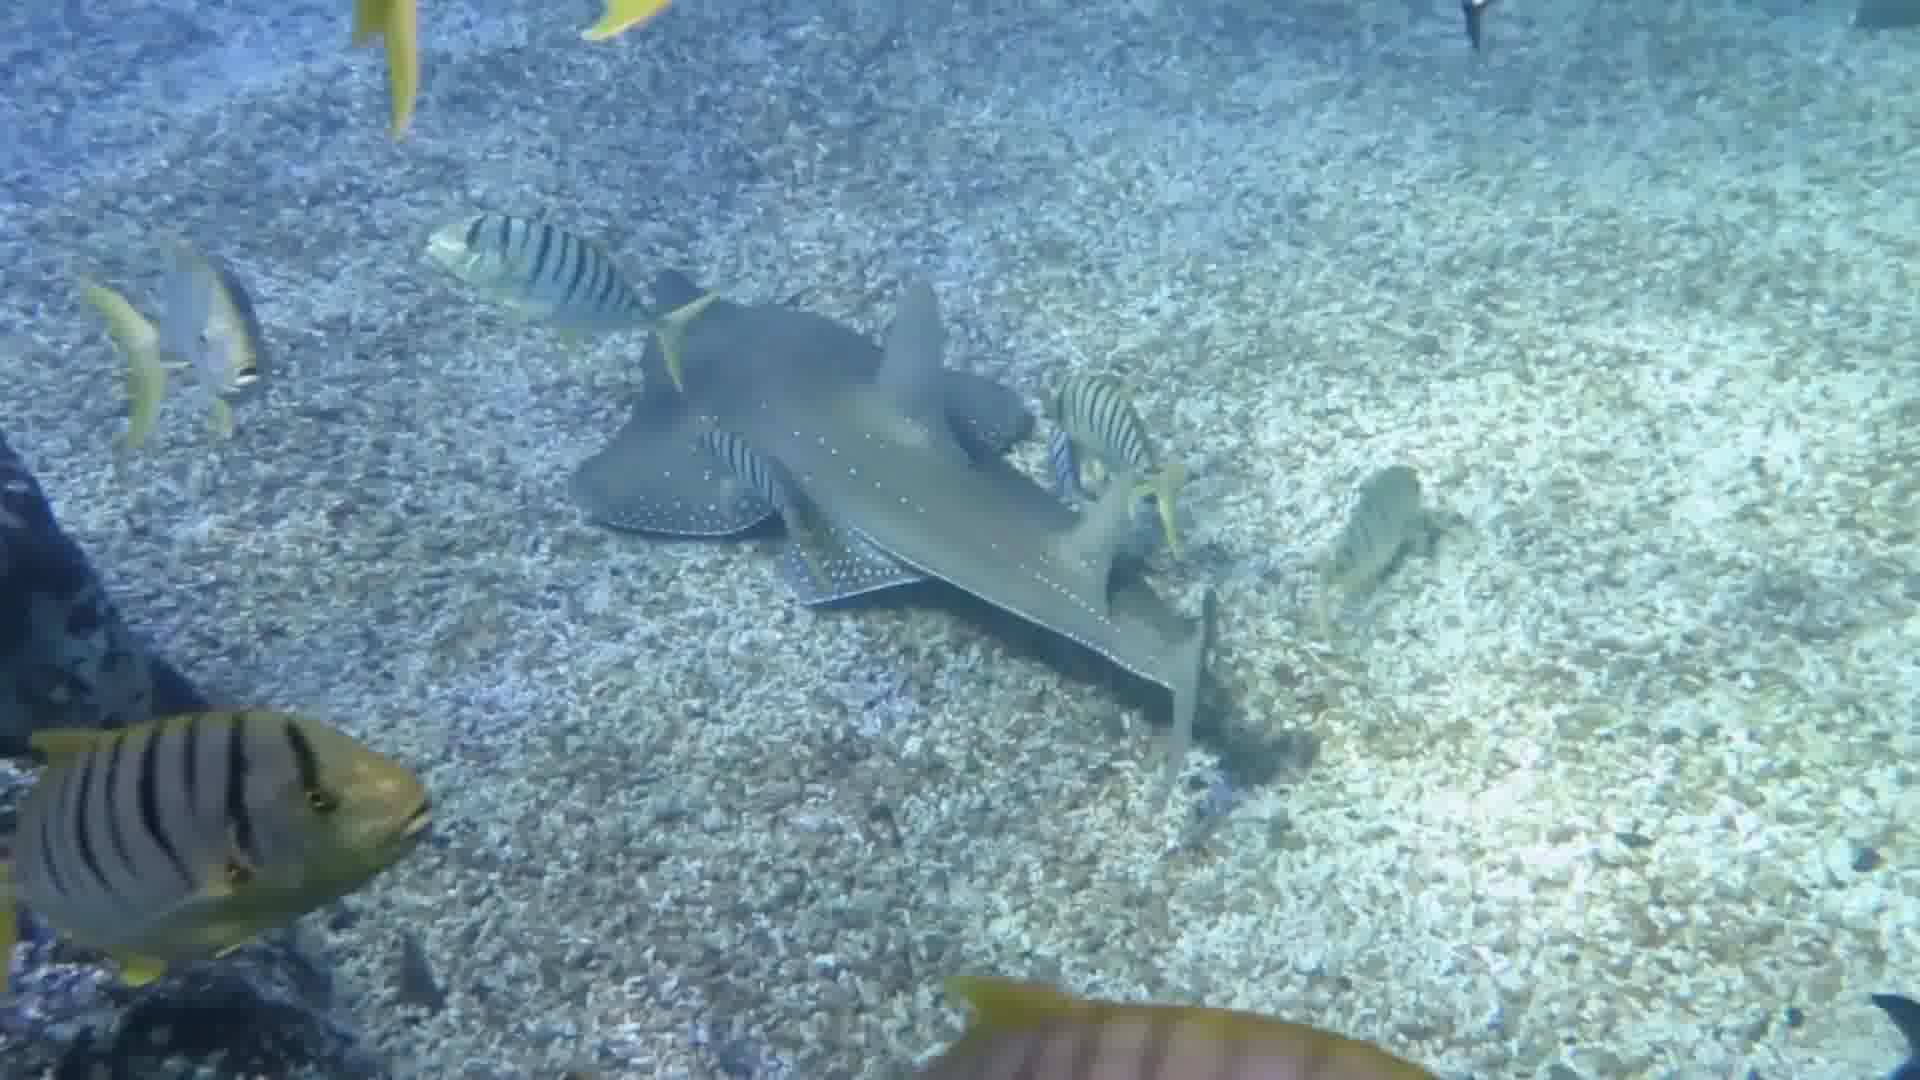Rhychobatus djiddensis: (491, 185, 1375, 811)
